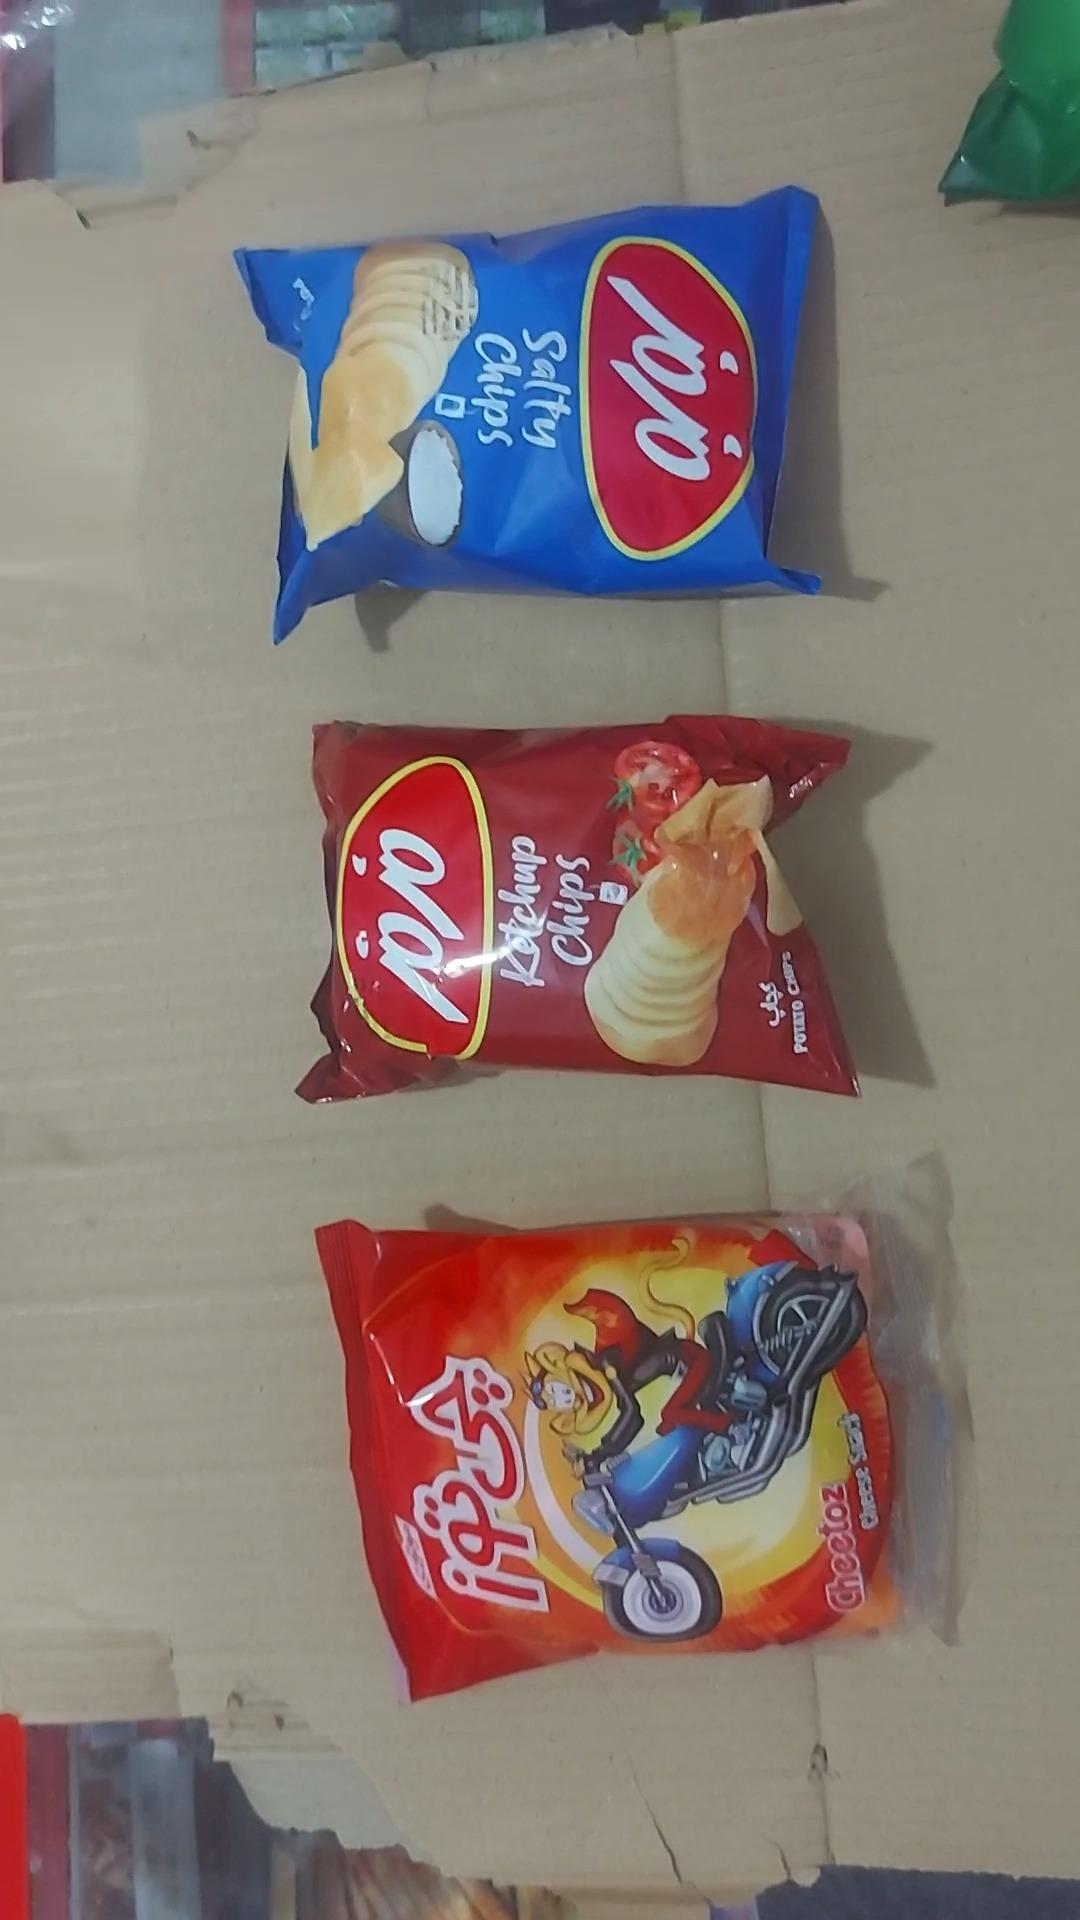Cheetoz snack 30g: (314, 1155, 968, 1710)
Maz Maz ketchup chips: (294, 715, 861, 1106)
Maz Maz salty chips: (229, 187, 829, 647)
